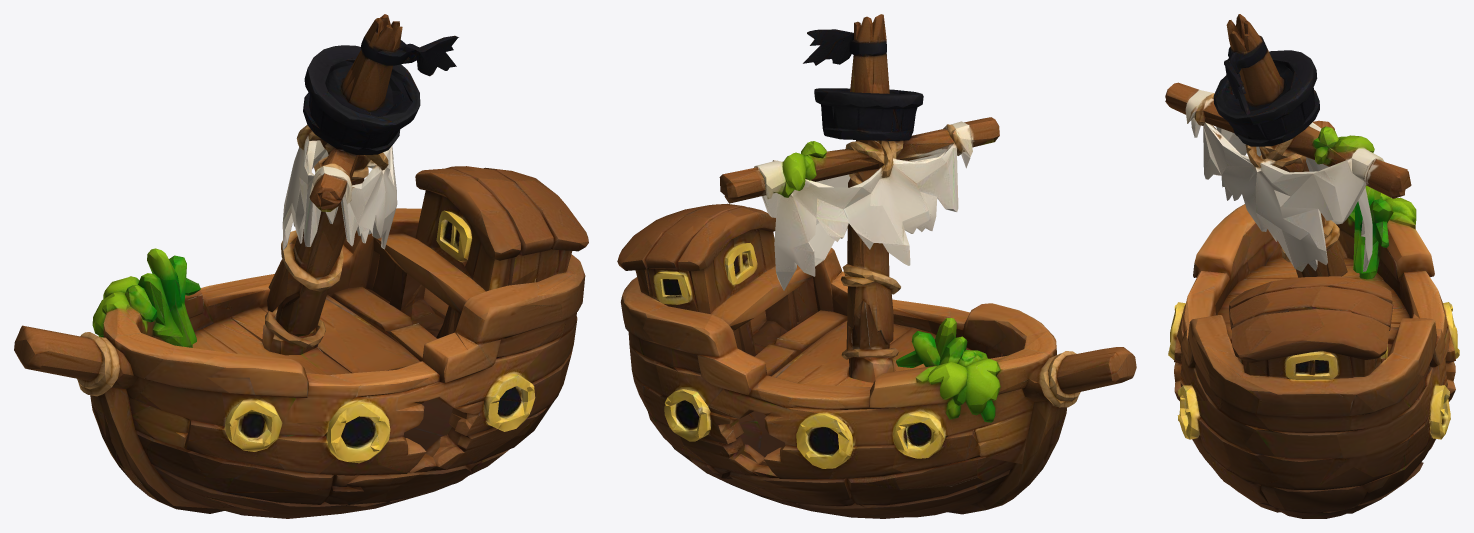
Rendered from hav-skibsvrag.glb.
3 renders of one model, left to right at view 1: azimuth 30°, elevation 25°; view 2: azimuth 150°, elevation 25°; view 3: azimuth 270°, elevation 25°, orthographic. The views are drawn at different scales.
Bounding box in the file's own units: 1.9 × 1.63 × 0.9887.
1 material, 1 textured.
